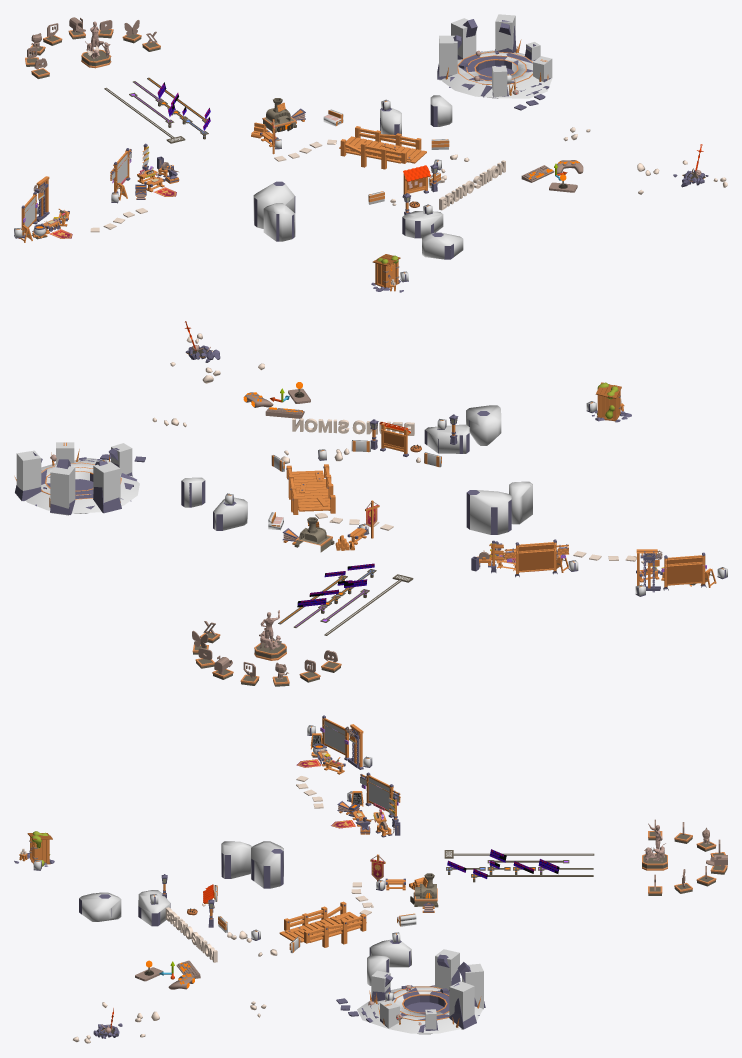
Rendered from areas.glb.
3 renders of one model, top to bottom at view 1: azimuth 30°, elevation 25°; view 2: azimuth 150°, elevation 25°; view 3: azimuth 270°, elevation 25°, orthographic. The views are drawn at different scales.
Visible parts, largest first — view 1: bridge.001, trimesh.001, Cube.159, hull.016, Cylinder.021, hull.015, hull.011, hull.012, Cube.165, Cube.172, Cube.164, Cube.146 (+4 smaller); view 2: bridge.001, trimesh.001, hull.015, Cube.159, Cube.172, hull.011, Cube.164, Cube.146, hull.012, hull.016, Cube.165, hull.014 (+2 smaller); view 3: bridge.001, trimesh.001, hull.015, Cube.159, Cube.172, Cylinder.021, hull.011, hull.016, hull.014, Cube.146, hull.012, Cube.165 (+2 smaller).
Boxes of the visible parts, <box> form: bridge.001: <box>339,126,426,169</box>; trimesh.001: <box>442,50,552,98</box>; Cube.159: <box>25,29,160,78</box>; hull.016: <box>263,203,295,241</box>; Cylinder.021: <box>458,53,549,95</box>; hull.015: <box>253,182,294,228</box>; hull.011: <box>422,232,463,259</box>; hull.012: <box>403,211,443,238</box>; Cube.165: <box>439,35,457,80</box>; Cube.172: <box>437,19,535,97</box>; Cube.164: <box>451,18,476,58</box>; Cube.146: <box>495,14,515,51</box>; bridge.001: <box>286,464,335,514</box>; trimesh.001: <box>25,458,139,513</box>; hull.015: <box>470,490,511,534</box>; Cube.159: <box>192,631,341,686</box>; Cube.172: <box>15,448,132,514</box>; hull.011: <box>466,405,501,445</box>; Cube.164: <box>50,464,75,515</box>; Cube.146: <box>16,450,41,501</box>; hull.012: <box>425,424,469,453</box>; hull.016: <box>509,481,532,524</box>; Cube.165: <box>93,461,120,513</box>; hull.014: <box>213,497,247,530</box>; bridge.001: <box>279,901,366,947</box>; trimesh.001: <box>357,986,482,1034</box>; hull.015: <box>251,841,283,888</box>; Cube.159: <box>648,831,727,895</box>; Cube.172: <box>371,954,485,1030</box>; Cylinder.021: <box>361,987,449,1022</box>; hull.011: <box>79,892,121,921</box>; hull.016: <box>221,841,252,878</box>; hull.014: <box>370,939,411,967</box>; Cube.146: <box>449,981,474,1029</box>; hull.012: <box>138,890,170,925</box>; Cube.165: <box>435,949,459,989</box>.
Bounding box in the file's own units: 85.2 × 8.2 × 85.35.
38 materials, 11 textured.
